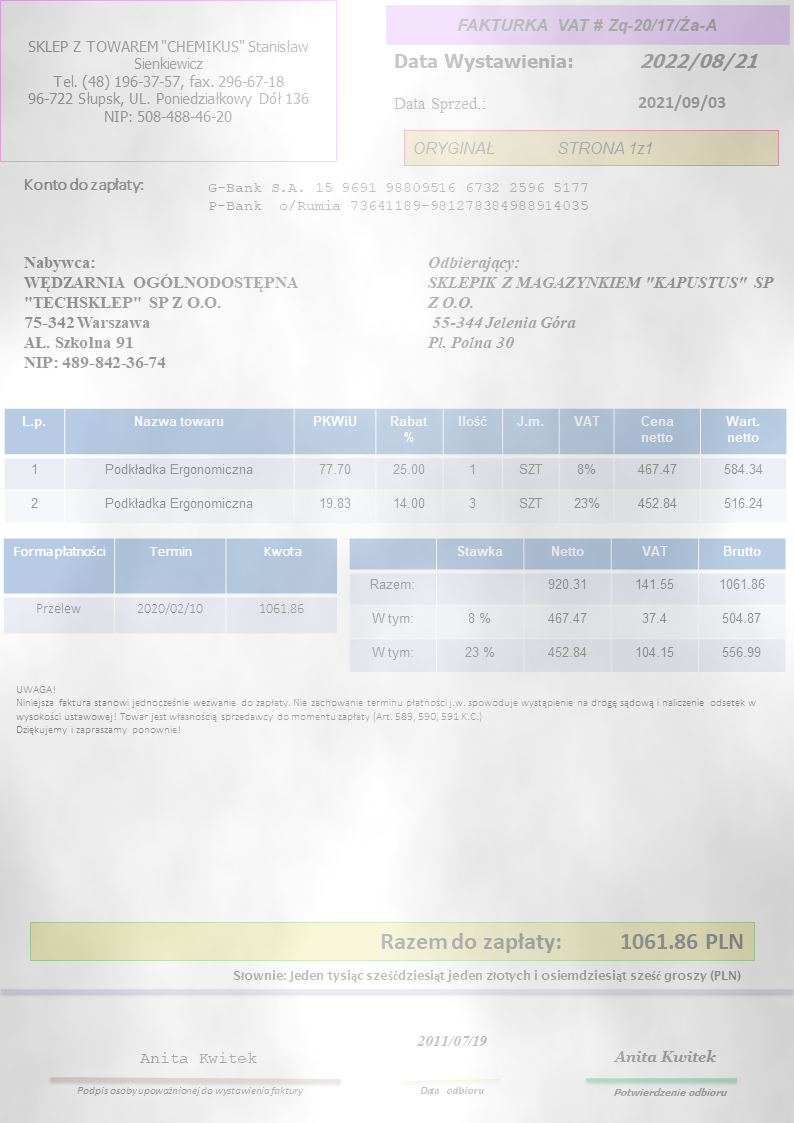Table: (2, 404, 788, 528), (345, 537, 787, 674), (2, 535, 341, 636)
TextBox: (13, 680, 760, 738), (423, 254, 776, 355), (19, 252, 304, 375), (20, 34, 315, 128), (201, 179, 593, 214), (229, 964, 743, 985), (377, 926, 747, 953), (451, 10, 724, 37), (411, 137, 655, 159), (390, 49, 577, 75), (72, 1083, 308, 1098), (639, 47, 761, 72), (18, 174, 147, 196), (388, 93, 490, 114), (137, 1049, 256, 1066), (609, 1047, 721, 1065), (635, 94, 729, 113), (611, 1086, 732, 1100), (415, 1032, 492, 1049), (418, 1083, 490, 1097)
